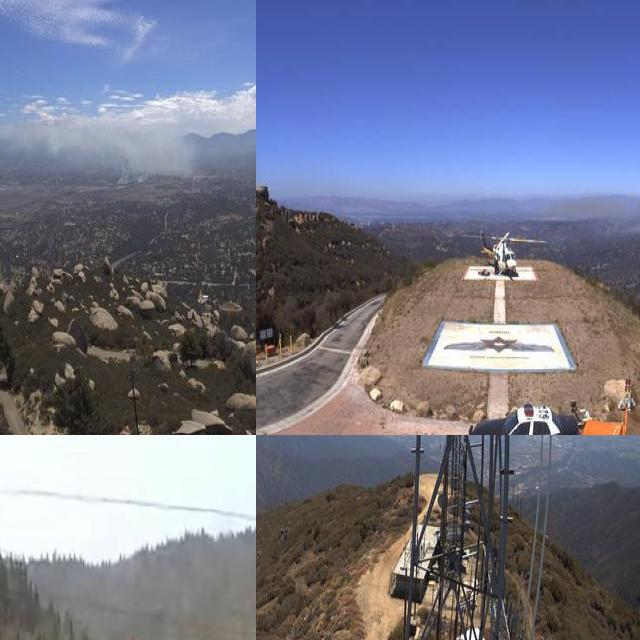smoke: (3, 102, 199, 185)
